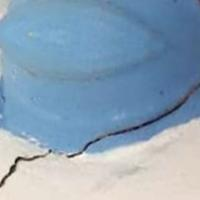crack: (2, 83, 199, 199)
